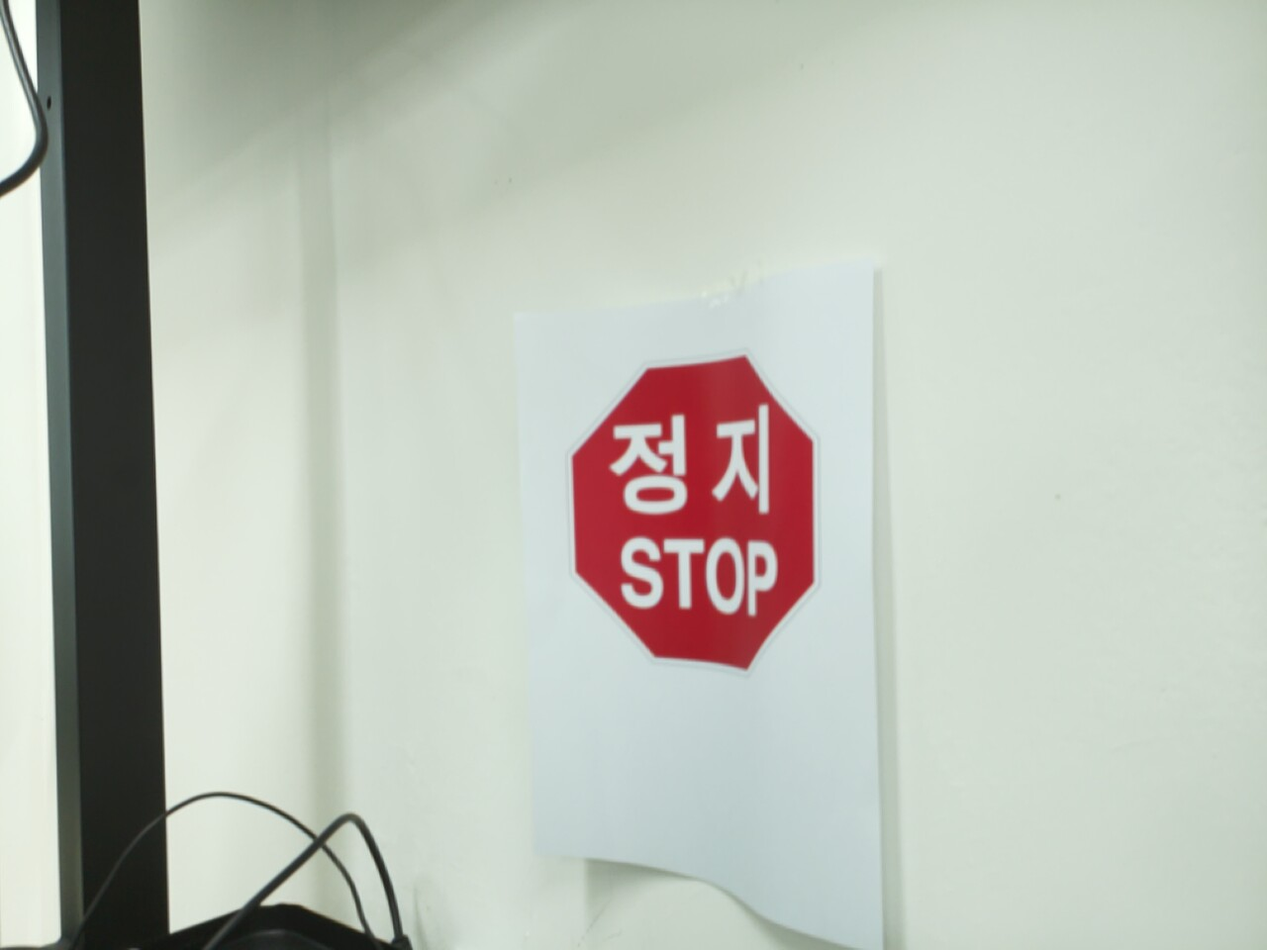stop: (563, 345, 824, 680)
